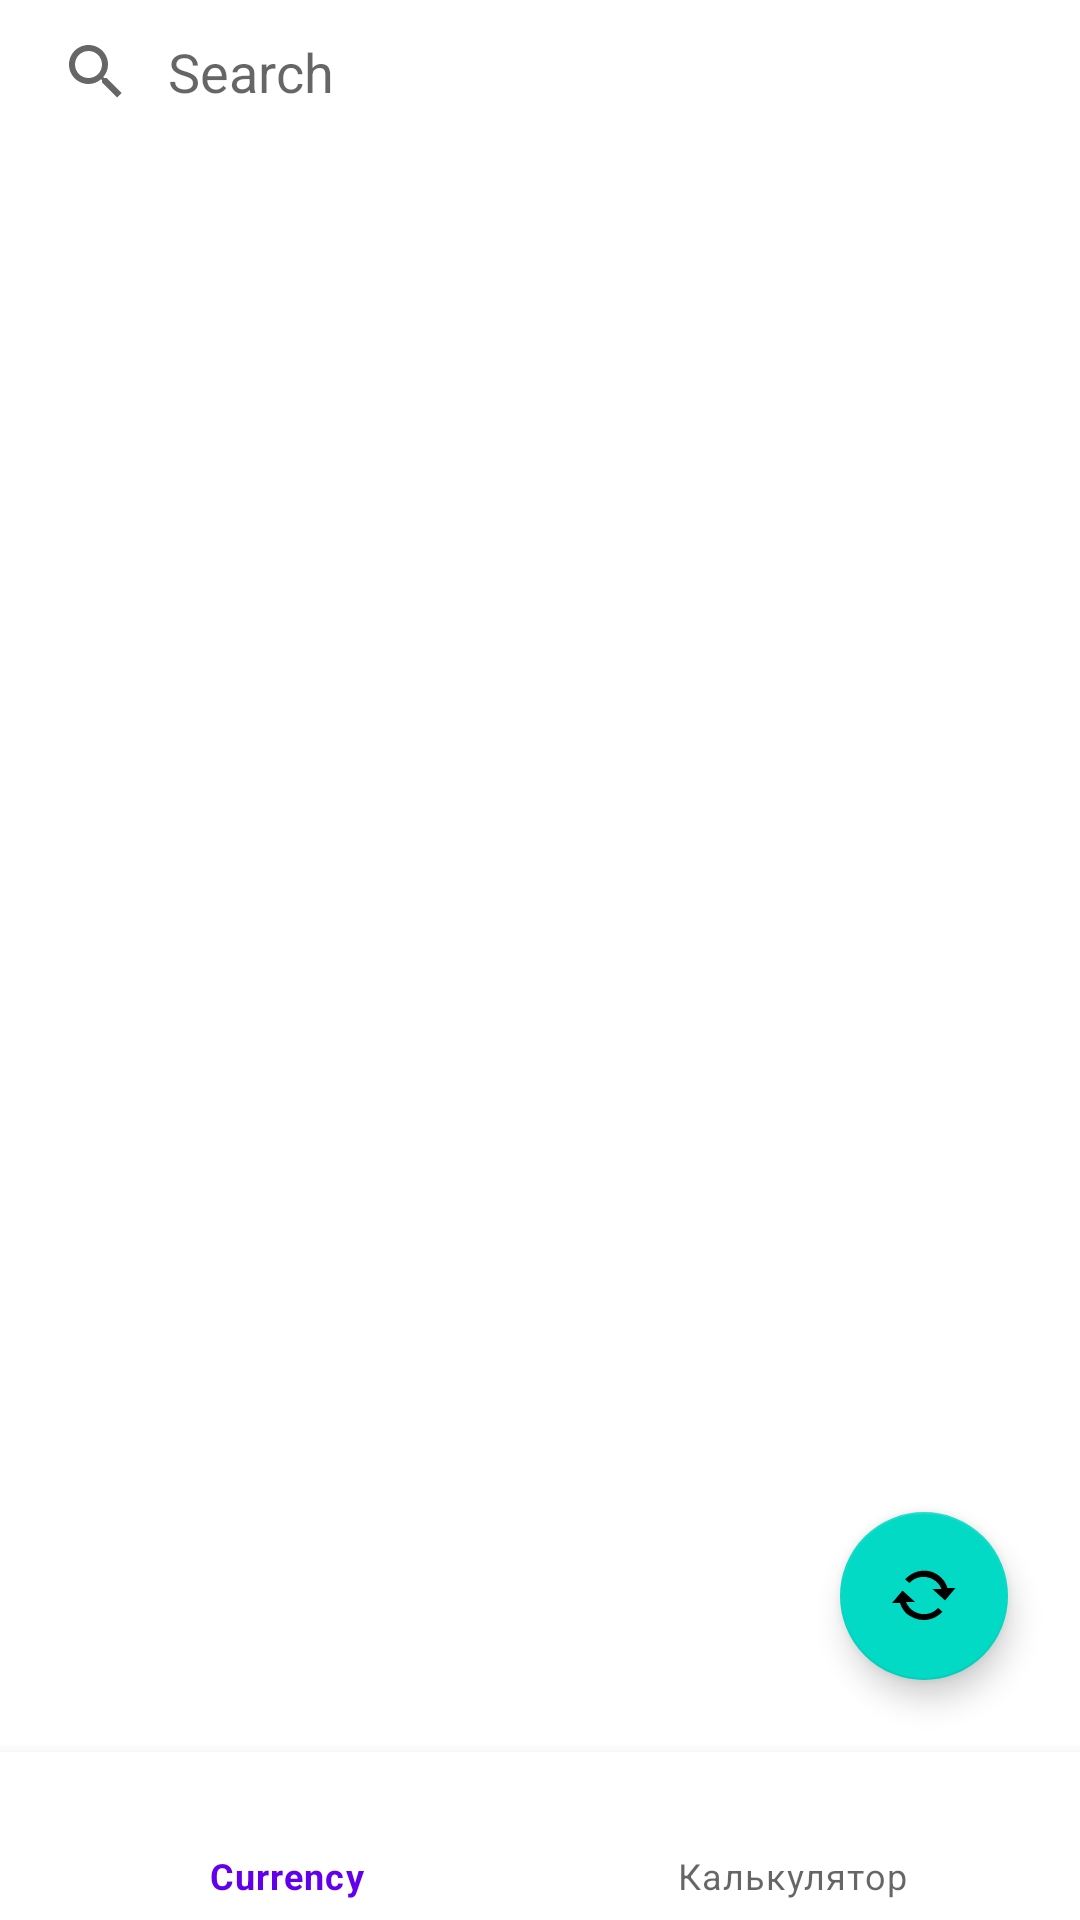

Named icons in this screenshot (1080 × 1920) and their bounding boxes, Rect(x1, y1, x2, y2):
sync: Rect(840, 1512, 1008, 1680)
